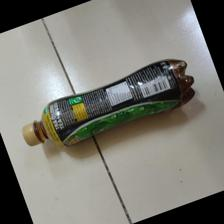Olong: (19, 56, 196, 146)
